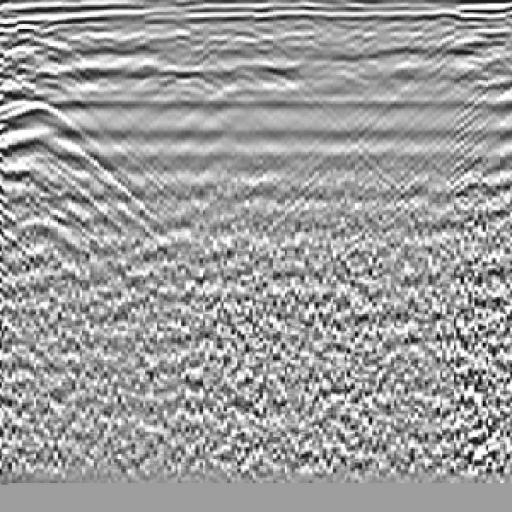metalic: (1, 55, 167, 315)
